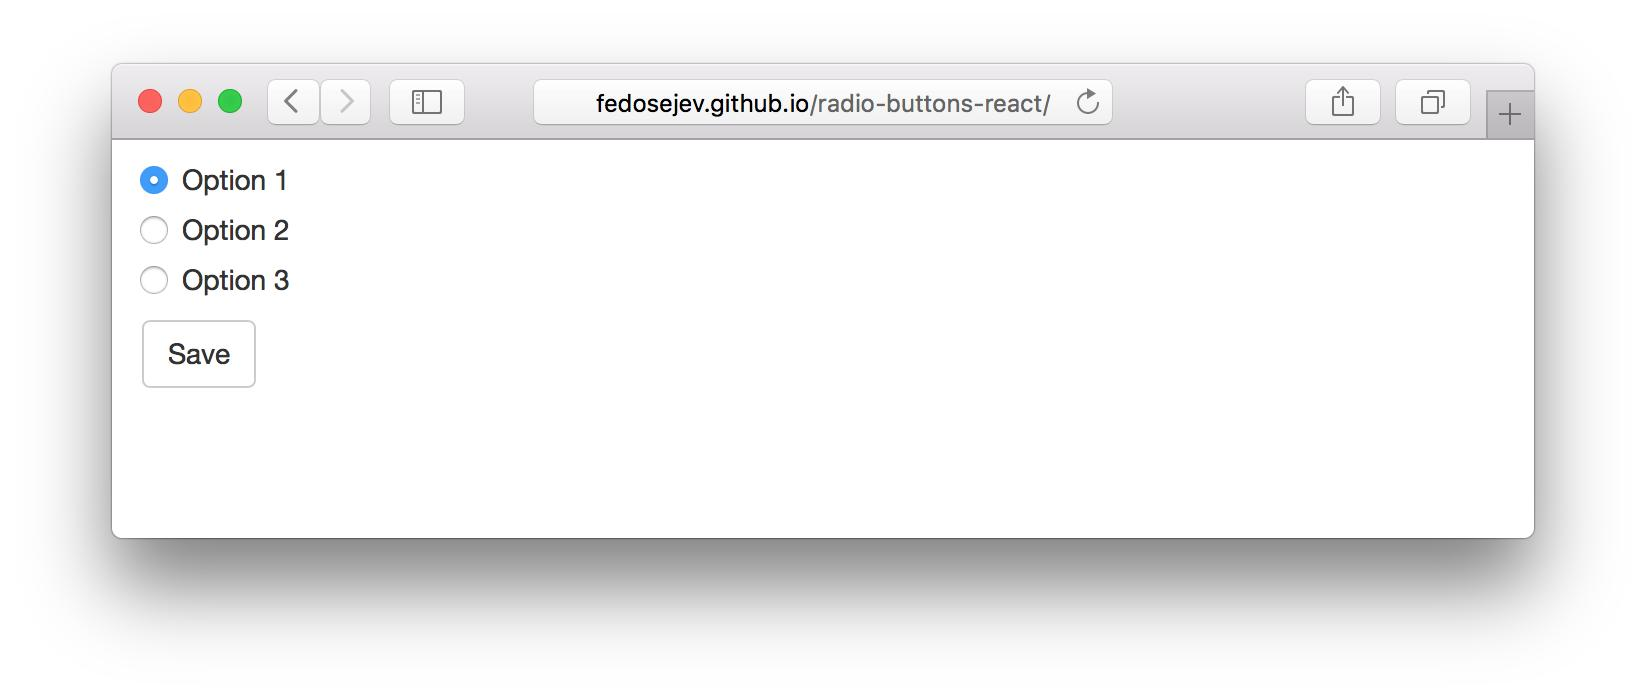button: (135, 315, 261, 397)
radiobutton: (127, 215, 183, 255), (133, 265, 181, 308), (133, 161, 176, 200)
